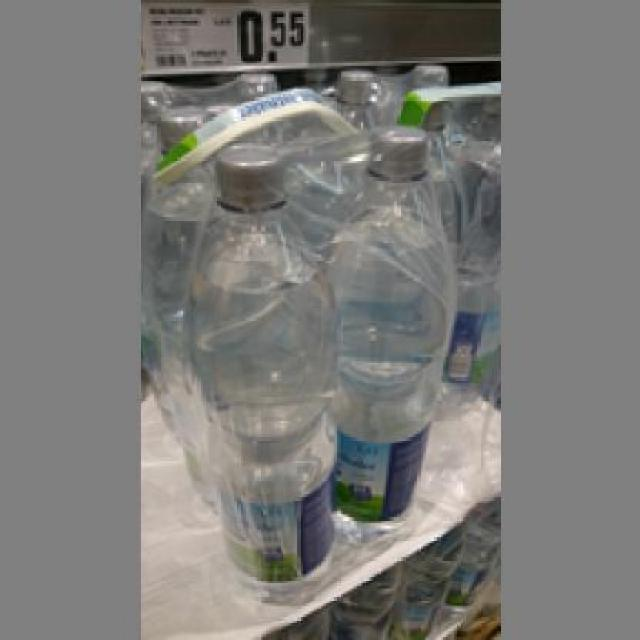Water: (180, 140, 337, 606), (326, 126, 451, 534)
